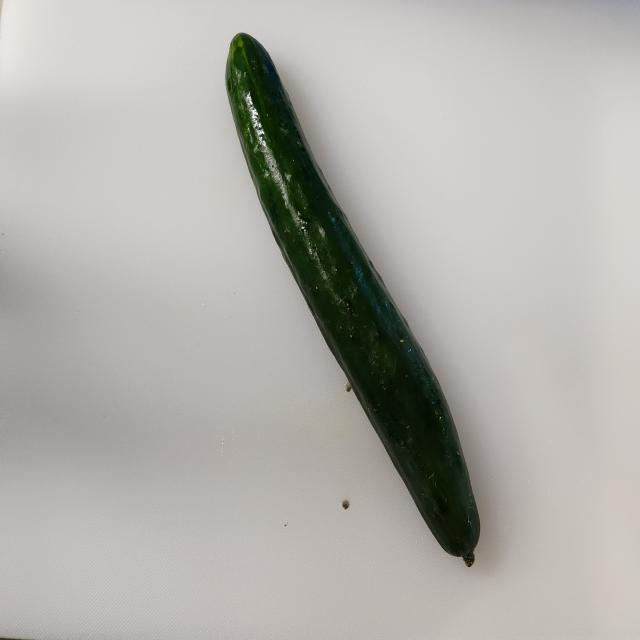cucumber: (224, 30, 481, 568)
